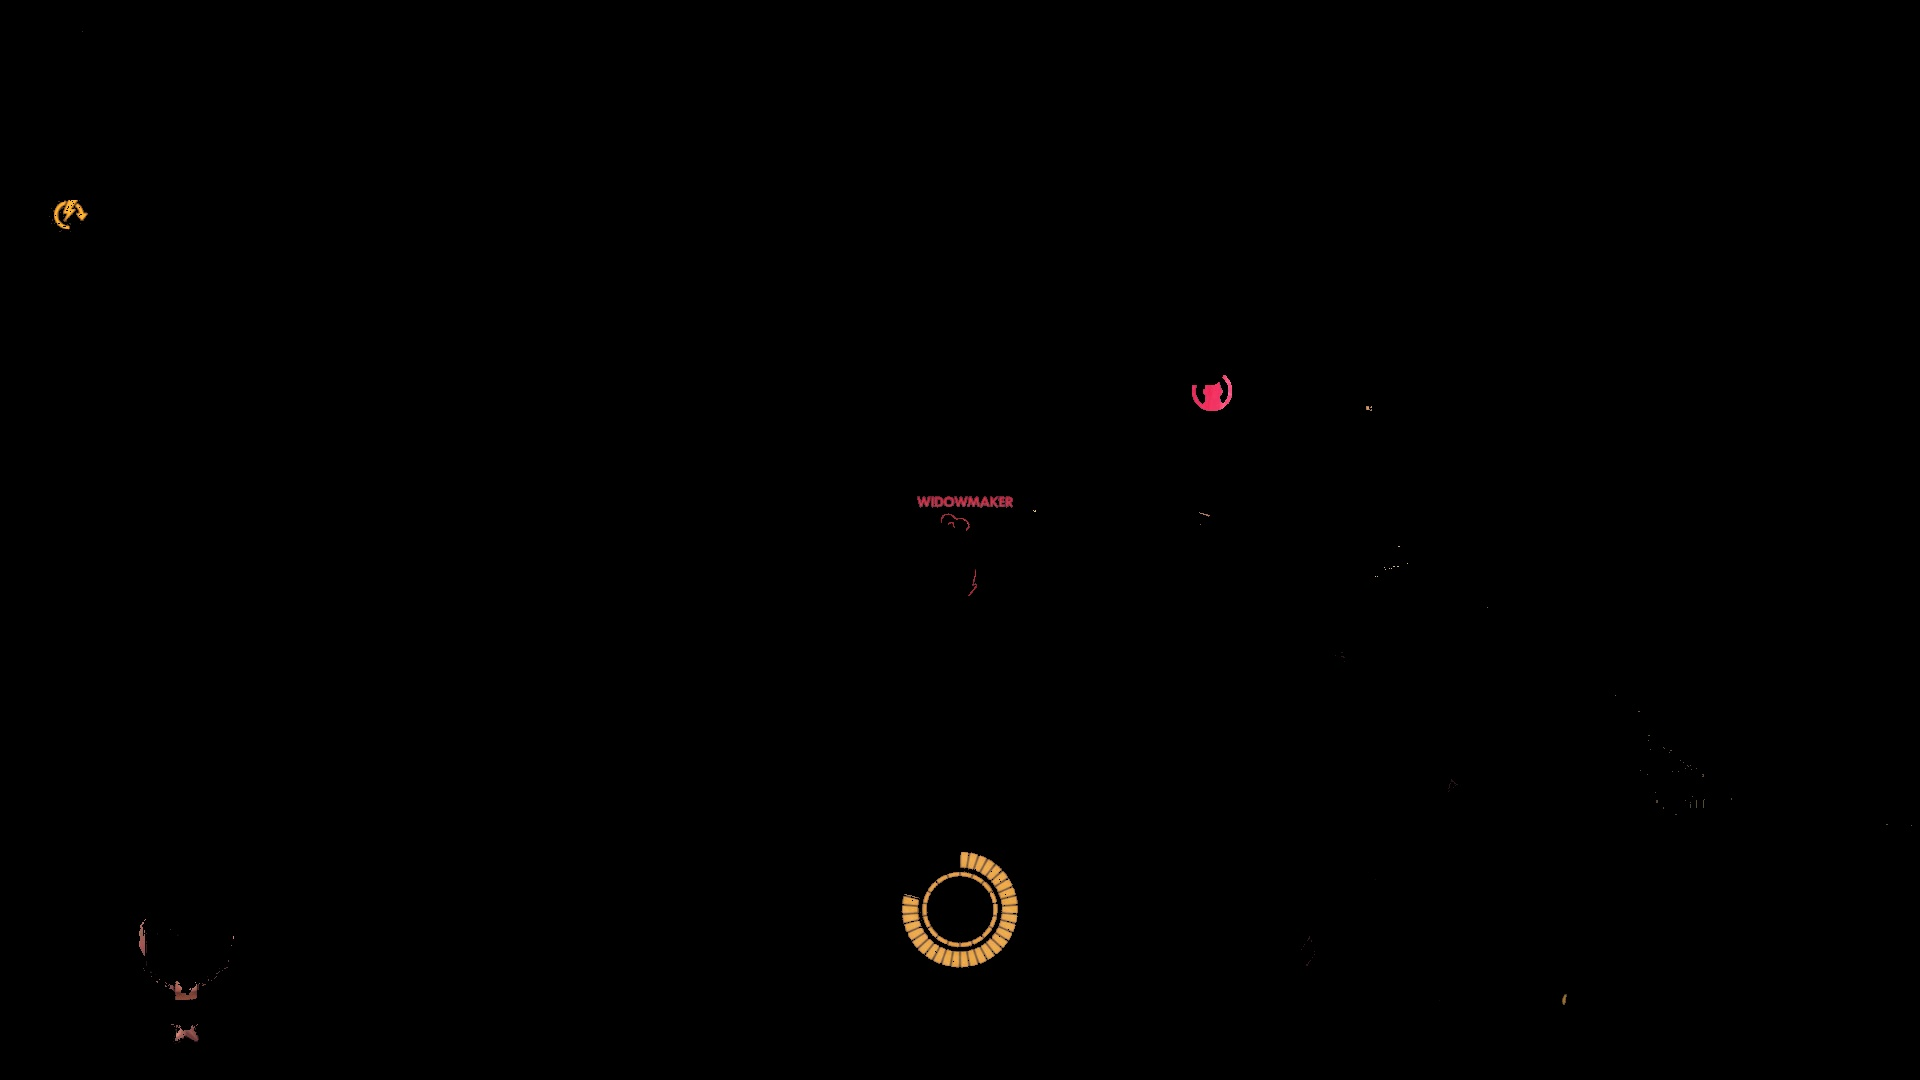widowmaker: (940, 513, 976, 597)
